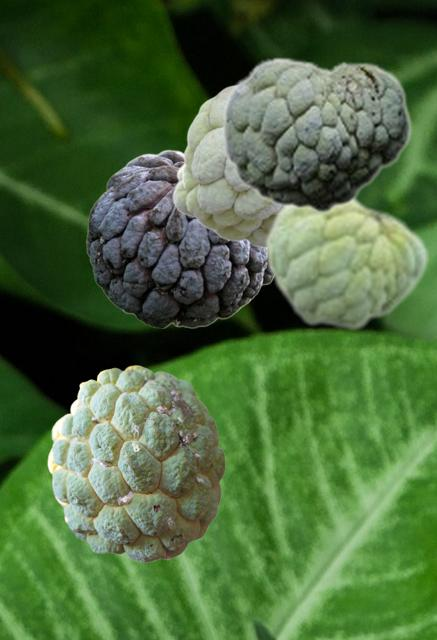atis: (47, 365, 224, 561), (86, 149, 272, 327), (221, 56, 411, 213), (263, 195, 427, 331), (172, 85, 276, 247)
